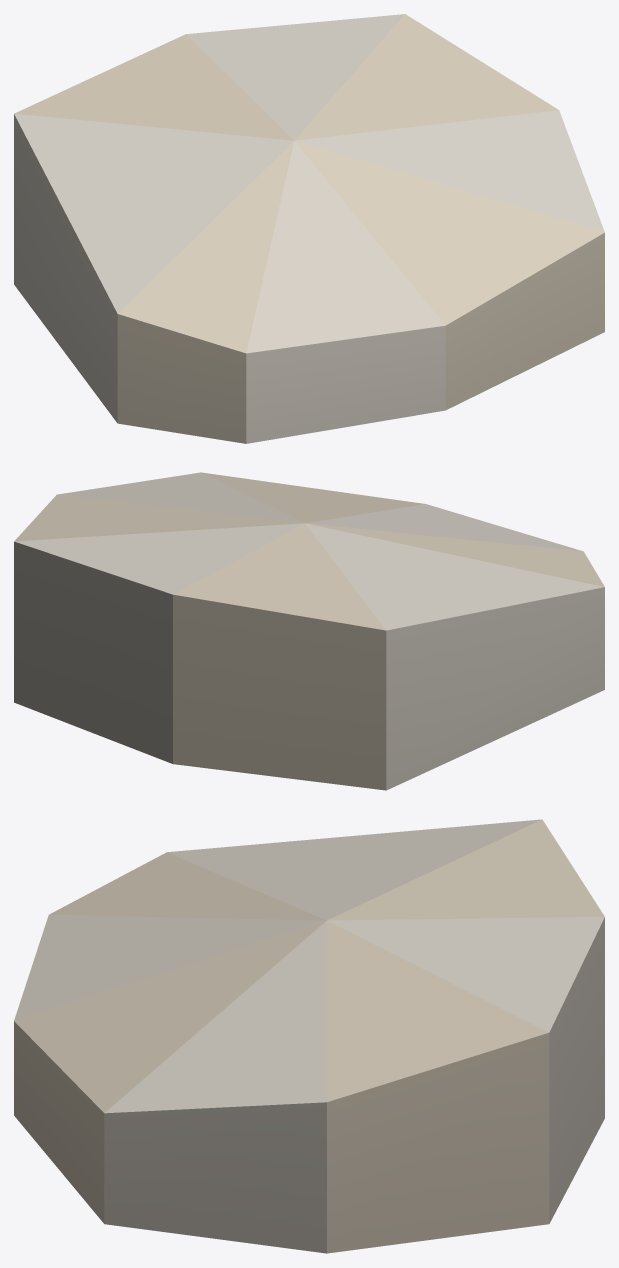
File: slab.glb
3 renders of one model, top to bottom at view 1: azimuth 30°, elevation 25°; view 2: azimuth 150°, elevation 25°; view 3: azimuth 270°, elevation 25°, orthographic. The views are drawn at different scales.
Visible parts, largest first — view 1: root_mesh; view 2: root_mesh; view 3: root_mesh.
Part boxes in pixels (x1,y1,x2,y2): root_mesh: (14, 14, 604, 443); root_mesh: (14, 472, 604, 790); root_mesh: (14, 819, 604, 1253).
Size of the model in its own units: 0.6 by 0.2021 by 0.5368.
